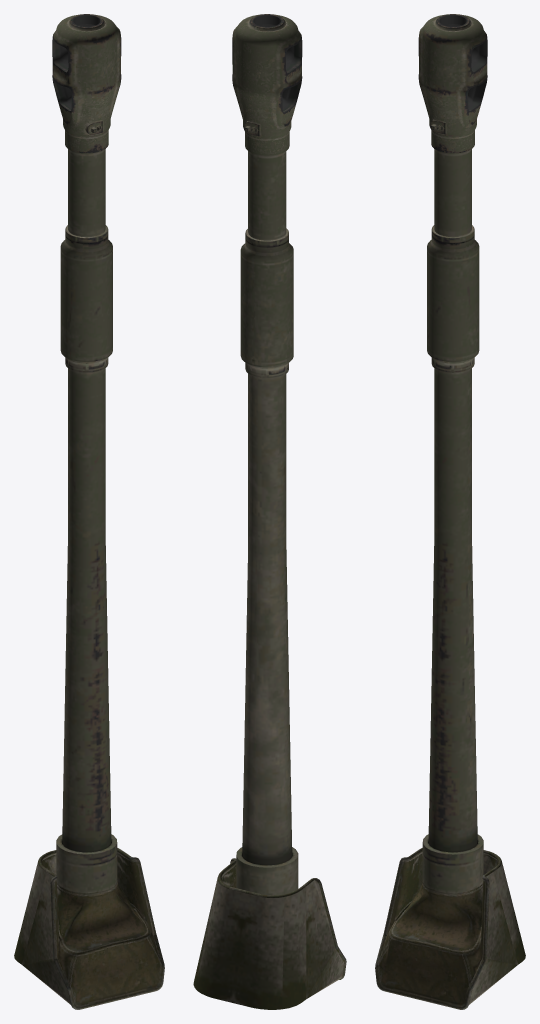
The model's file is Gun_01.glb.
The picture shows the model from 3 angles, left to right: view 1: azimuth 30°, elevation 25°; view 2: azimuth 150°, elevation 25°; view 3: azimuth 330°, elevation 25°; orthographic projection.
Parts seen in each view (by area): view 1: set_0_group_0; view 2: set_0_group_0; view 3: set_0_group_0.
Part boxes in pixels (box(x1,y1,x2,y2)): set_0_group_0: box(14, 14, 164, 1009); set_0_group_0: box(193, 14, 346, 1009); set_0_group_0: box(375, 14, 525, 1009).
Bounding box in the file's own units: 0.5719 × 5.06 × 0.6278.
Materials: 1 (1 with a texture image).
